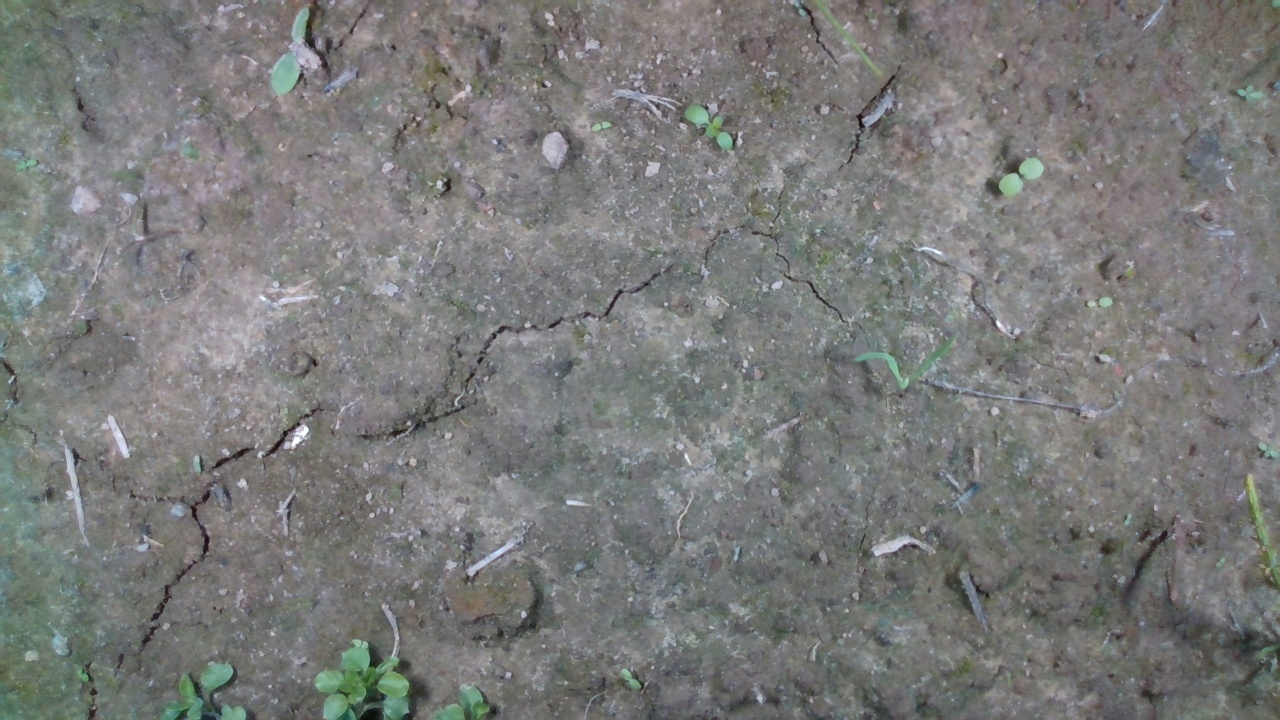weed: (679, 100, 756, 151), (997, 155, 1048, 197), (1080, 295, 1117, 310)
